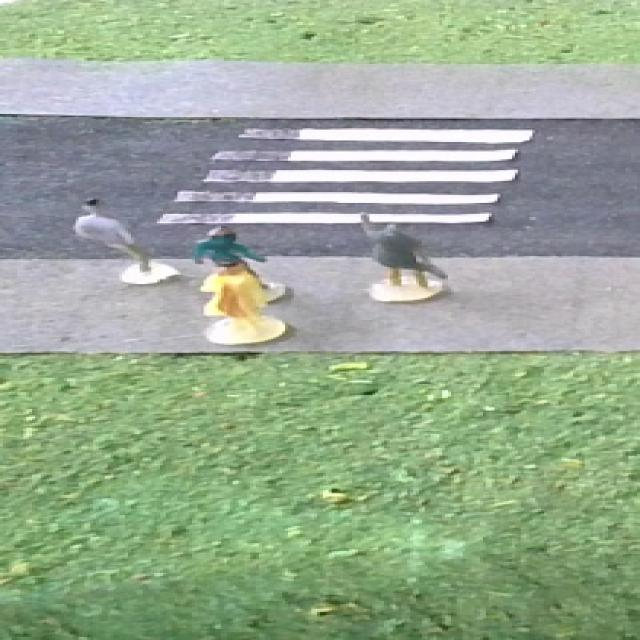person: (68, 189, 178, 289), (355, 209, 456, 304), (188, 261, 292, 348), (193, 221, 280, 263)
